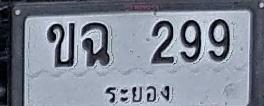2: (152, 20, 173, 63)
9: (208, 18, 230, 61), (180, 19, 201, 62)
A02: (47, 22, 74, 66)
A09: (82, 22, 110, 66)
RYG: (97, 81, 176, 106)
